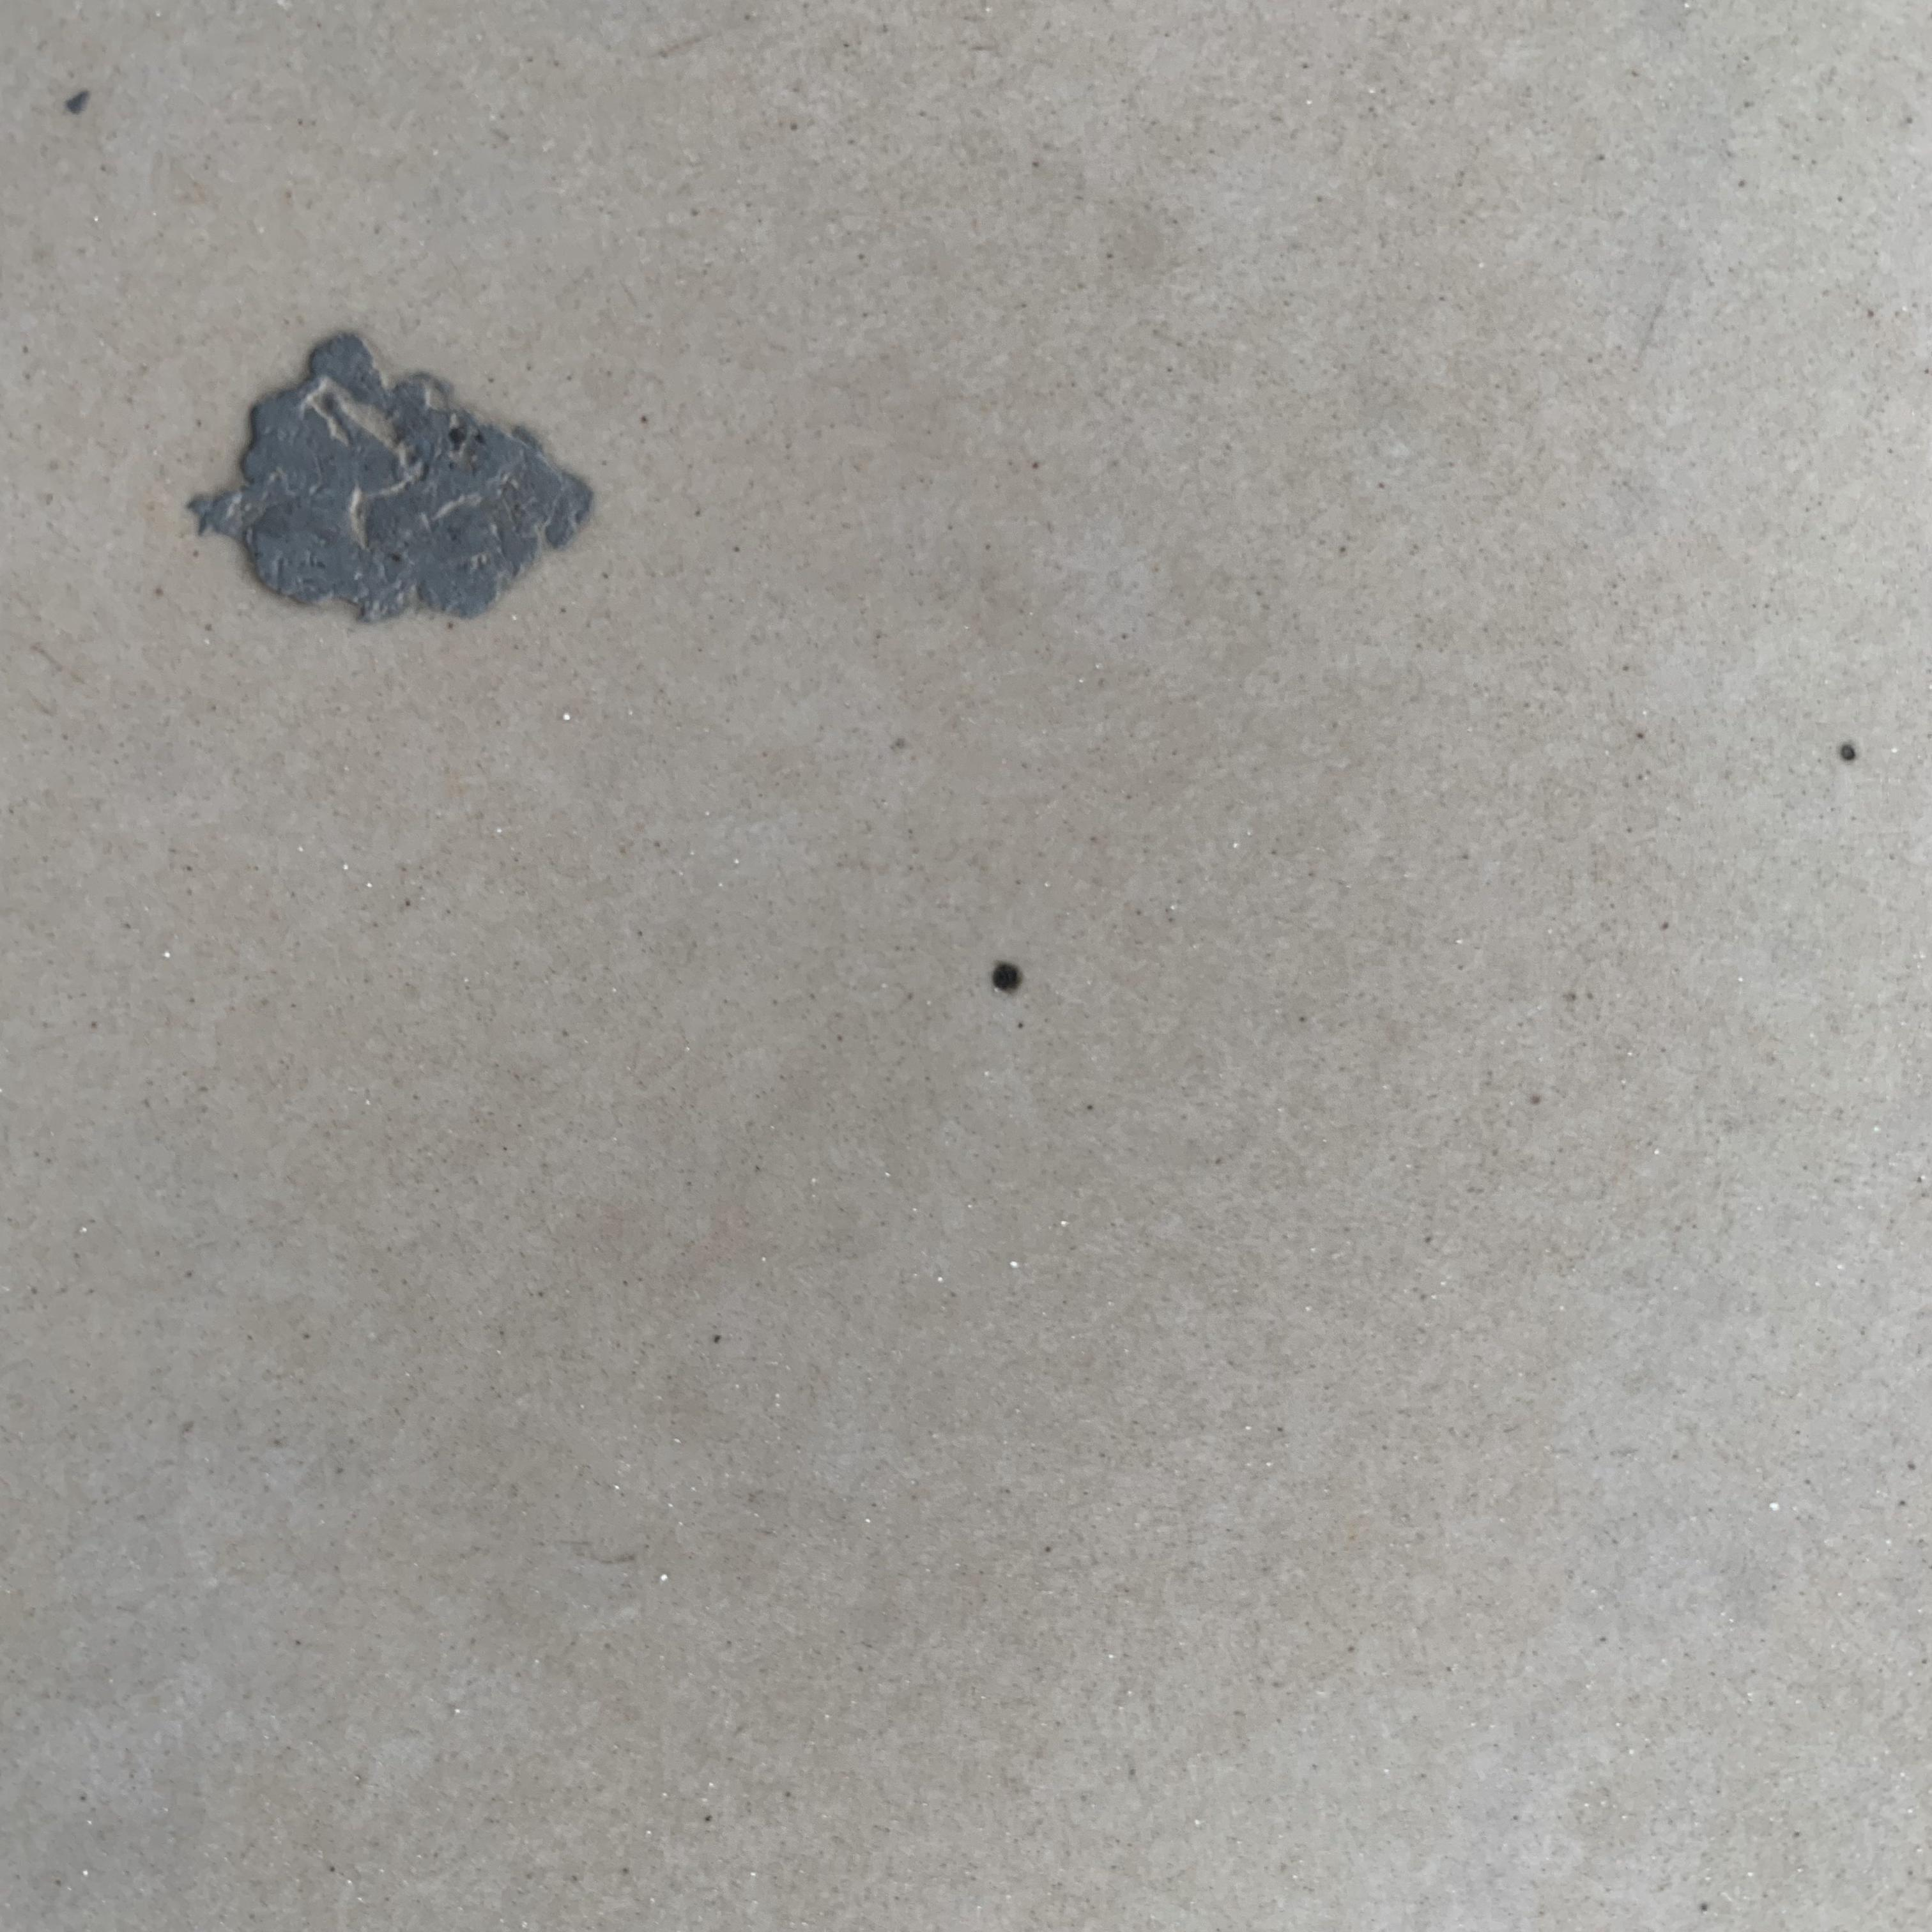grey spot: (188, 331, 594, 626), (989, 961, 1026, 996), (1840, 745, 1856, 761)
